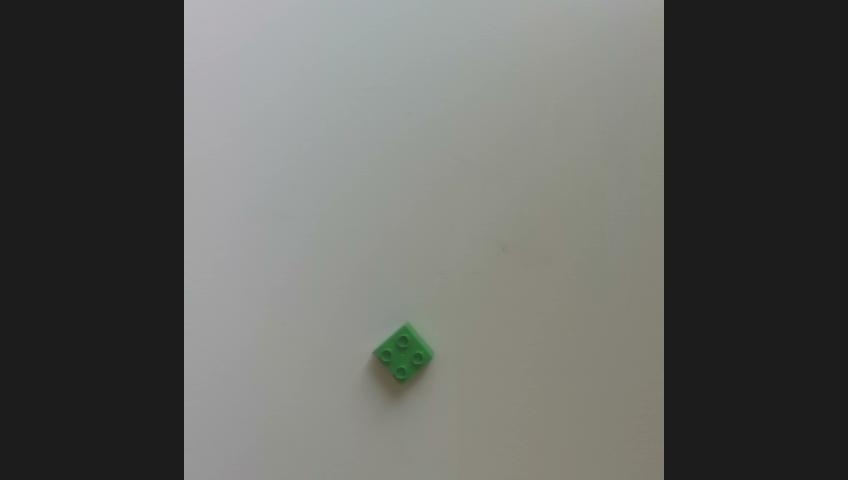2x2_green: (372, 321, 432, 380)
